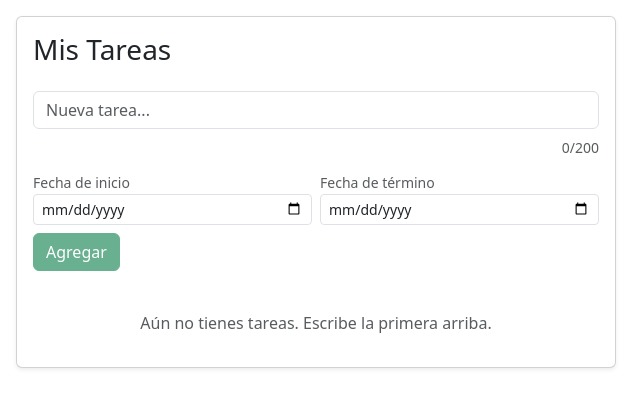
Test case: keeps a backend date validation error beside its field without a global alert
Type "Pendiente" into the field with placeholder "Nueva tarea..." at (316, 110), box x1=33 y1=91 x2=599 y2=129
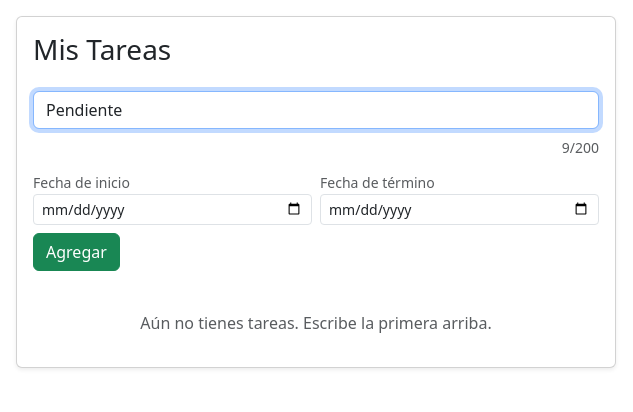
Click the button "Agregar" at (76, 252), box x1=33 y1=233 x2=120 y2=271
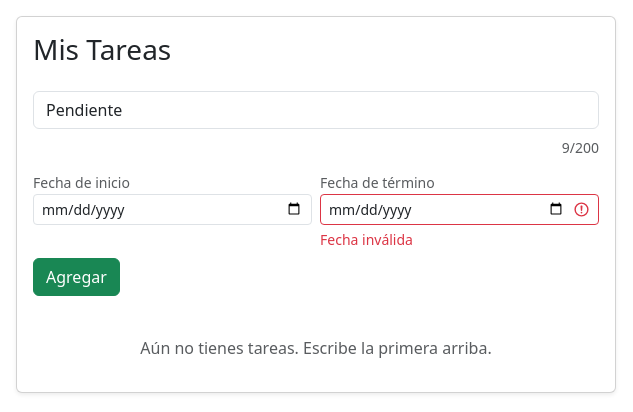
Result: the date field labelled "Fecha de término" has class "is-invalid" at x1=320 y1=194 x2=599 y2=225
